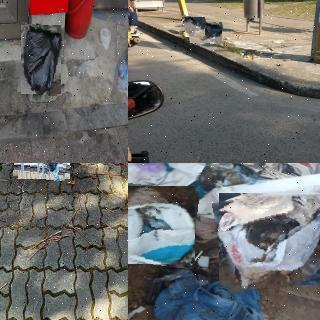Garbage: (215, 188, 320, 289), (128, 183, 197, 266), (19, 24, 63, 95), (128, 163, 207, 202), (113, 16, 128, 111), (190, 21, 223, 44), (180, 16, 206, 38)
